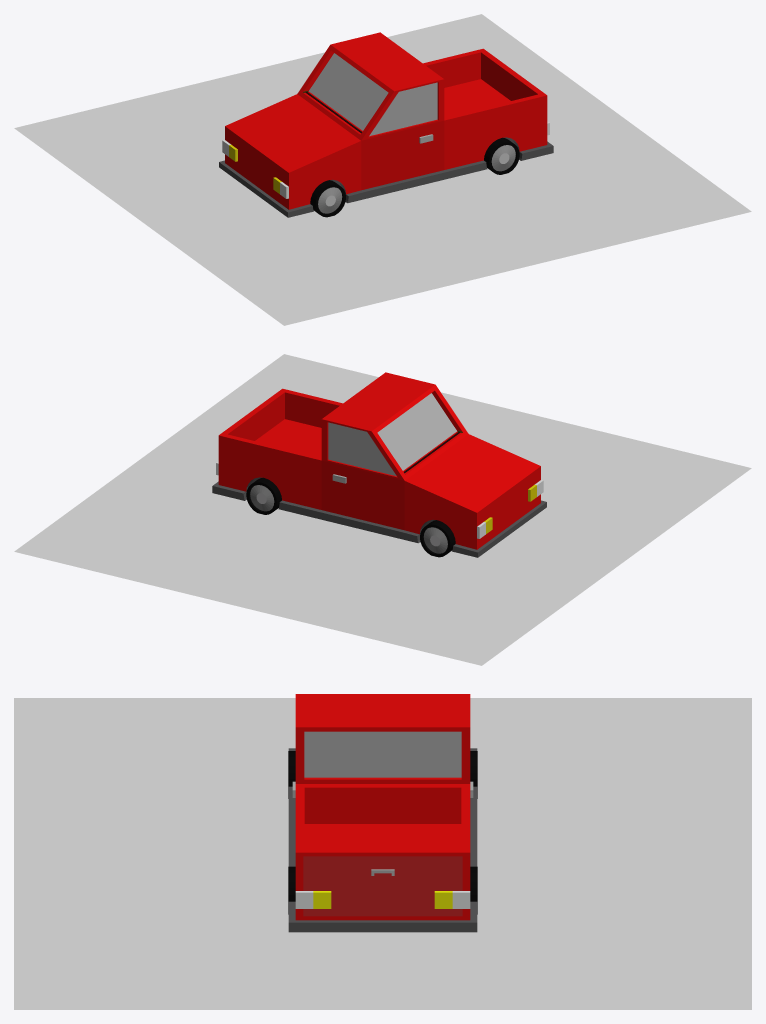
The model's file is red_toyota_car.fbx.
3 views of the same model, one above another, from view 1: azimuth 30°, elevation 25°; view 2: azimuth 150°, elevation 25°; view 3: azimuth 270°, elevation 25° (orthographic). The views are drawn at different scales.
Parts seen in each view (by area): view 1: Plane, Car; view 2: Plane, Car; view 3: Plane, Car.
Part boxes in pixels (x1,y1,x2,y2): Plane: [14, 14, 751, 325]; Car: [219, 32, 553, 217]; Plane: [14, 354, 751, 665]; Car: [212, 372, 546, 557]; Plane: [14, 698, 751, 1009]; Car: [288, 694, 477, 932].
Bounding box in the file's own units: 845 × 186 × 845.
